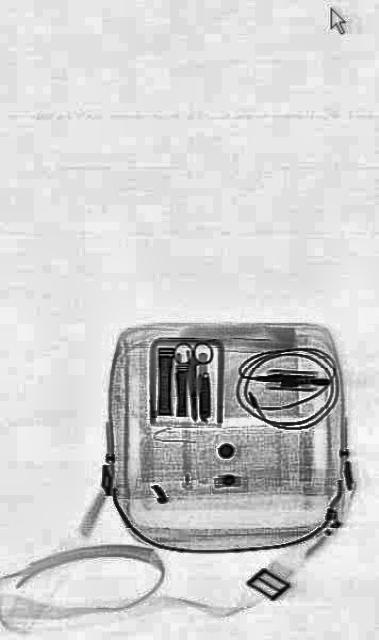Scissors: (173, 340, 215, 422)
